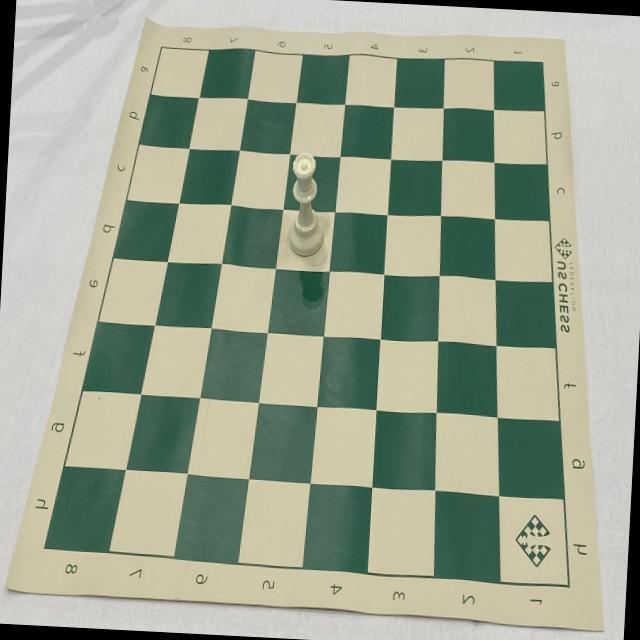white-queen: (286, 150, 329, 260)
